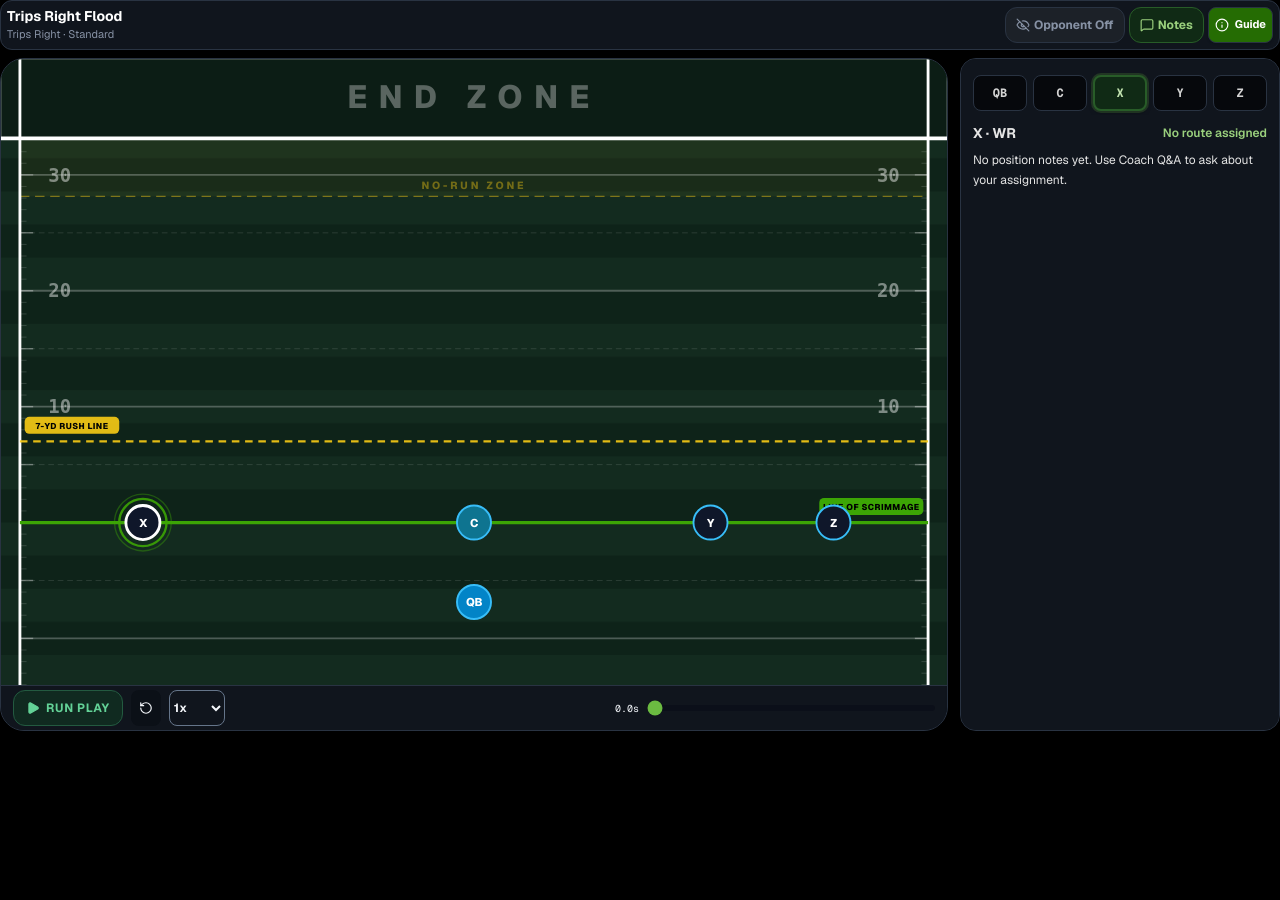
PlayCanvas Route Presets Suite › keeps the toolbar Guide available for the read-only player viewer
Step 1. Click the button with aria-label "Open Player Play Viewer guided tour" → click(1240, 25), box [1208,7,1273,43]
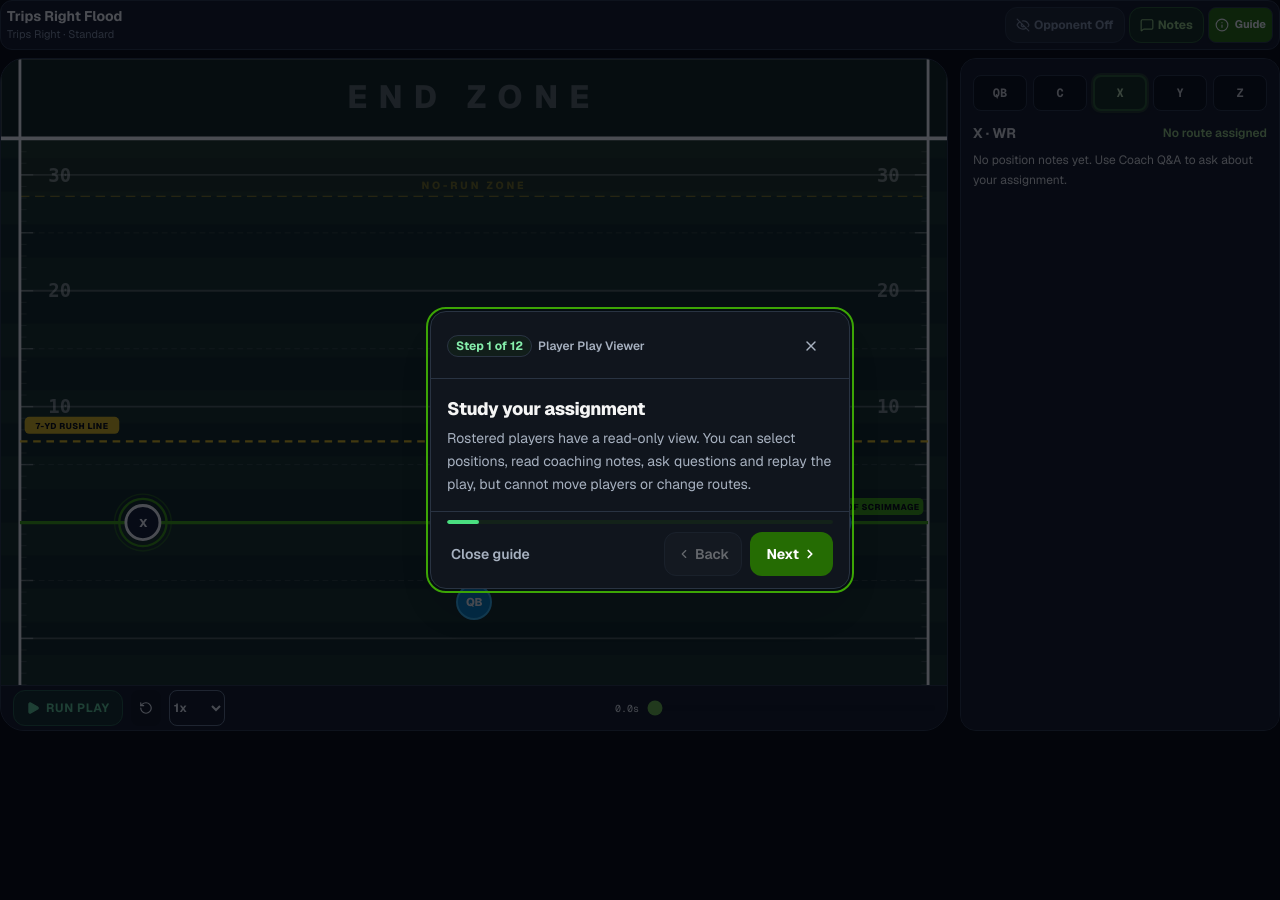
Result: the dialog named "Player Play Viewer walkthrough" is shown at [430,311,850,589]
Result: the heading "Study your assignment" is shown at [447,397,645,420]
